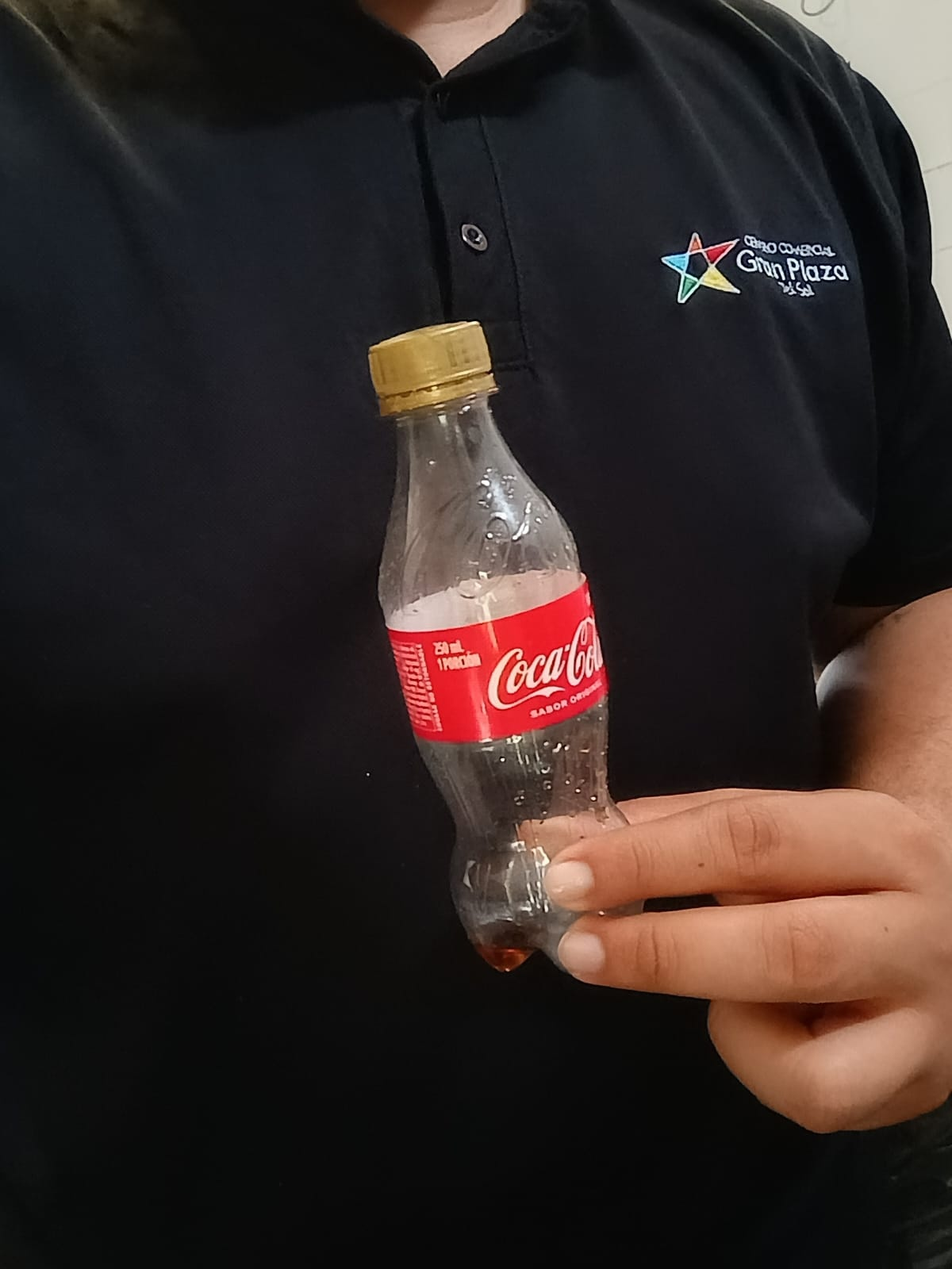Plastico: (368, 317, 627, 968)
